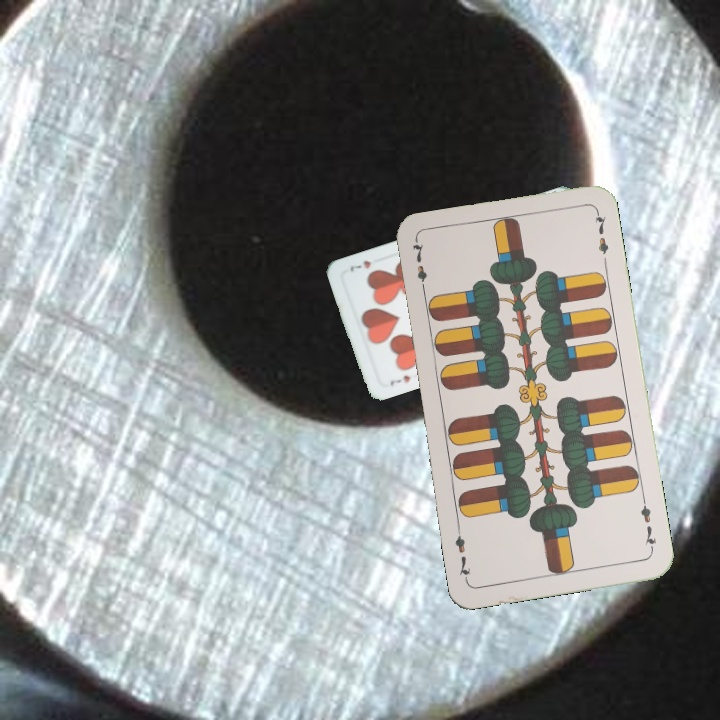E7: (636, 495, 659, 554), (408, 238, 430, 297)
H7: (386, 371, 413, 388)
